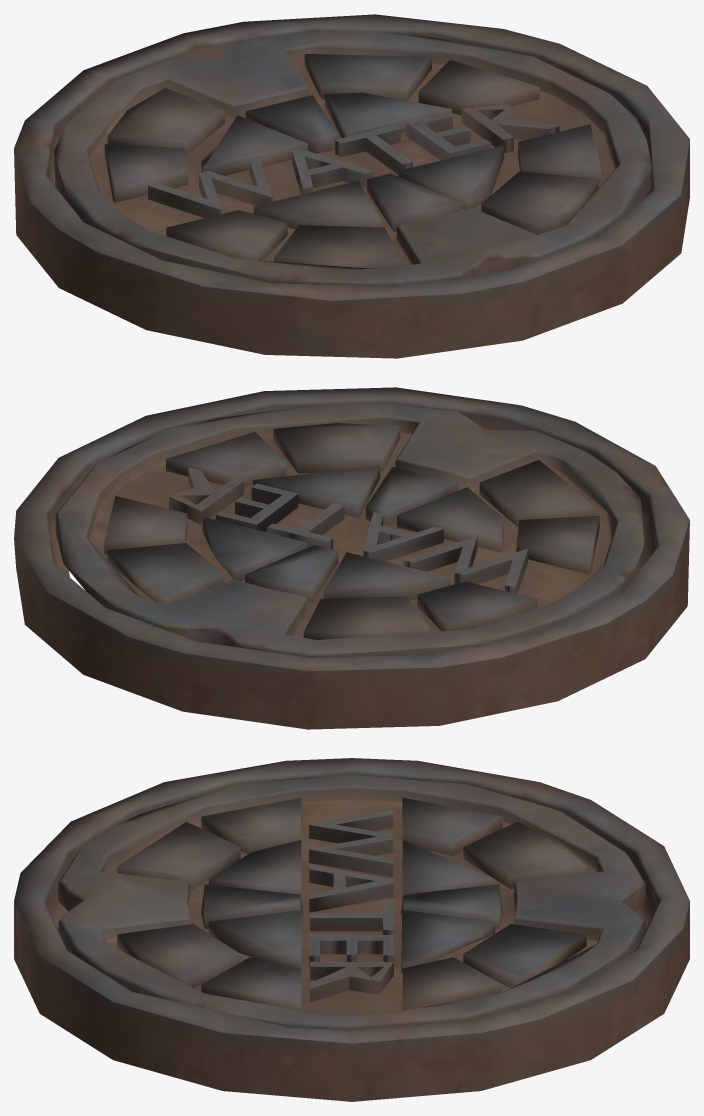
Rendered from water_manhole_cover.glb.
3 renders of one model, top to bottom at view 1: azimuth 30°, elevation 25°; view 2: azimuth 150°, elevation 25°; view 3: azimuth 270°, elevation 25°, orthographic.
Visible parts, largest first — view 1: water_manhole_cover_frame; view 2: water_manhole_cover_frame; view 3: water_manhole_cover_frame.
Part boxes in pixels (x1,y1,x2,y2): water_manhole_cover_frame: (14,14,689,358); water_manhole_cover_frame: (14,387,689,729); water_manhole_cover_frame: (14,758,689,1101).
Bounding box in the file's own units: 0.6908 × 0.0676 × 0.6908.
Materials: 1 (1 with a texture image).
